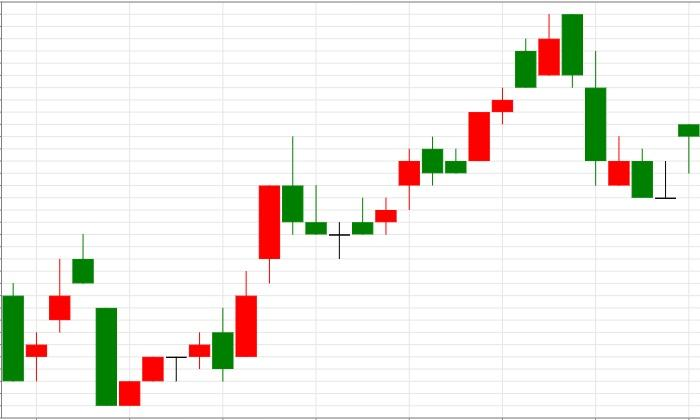bearish_engulfing_fall: (468, 14, 583, 161)
